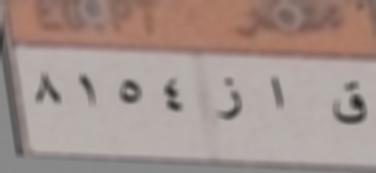1: (76, 69, 100, 114)
4: (162, 74, 185, 122)
5: (117, 75, 146, 112)
8: (28, 66, 62, 114)
alif: (261, 68, 292, 119)
qaaf: (328, 76, 372, 132)
zay: (212, 74, 245, 129)
